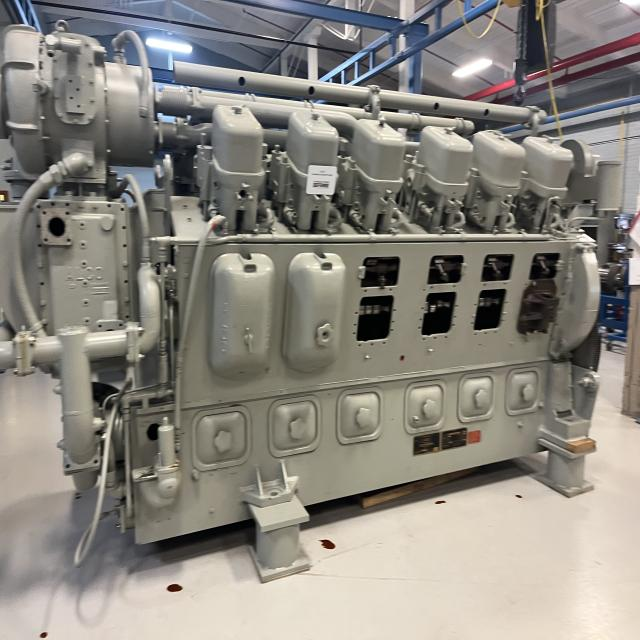Oil Leak: (167, 583, 183, 592), (327, 541, 335, 549), (39, 632, 48, 638), (435, 501, 446, 504), (515, 495, 522, 498)
